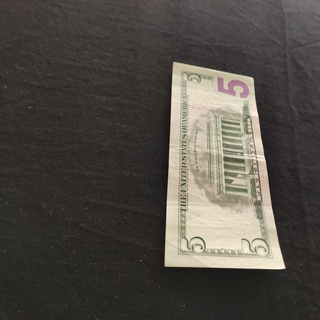5USDBack: (162, 61, 285, 271)
